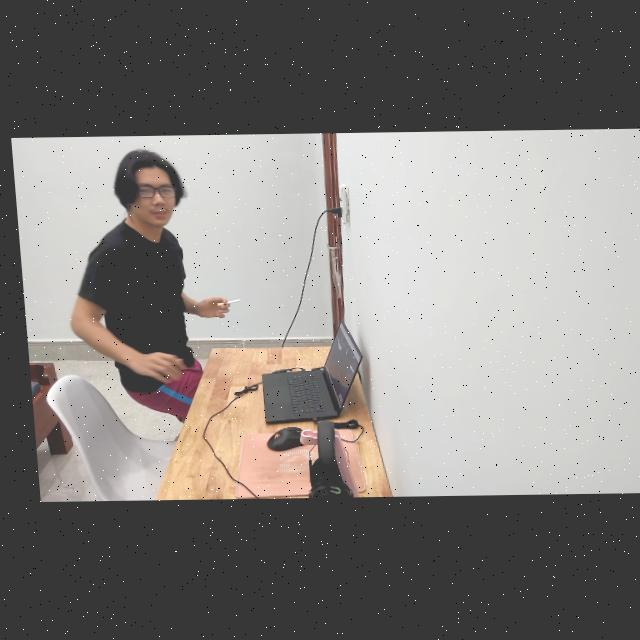cigarette: (211, 300, 236, 307)
